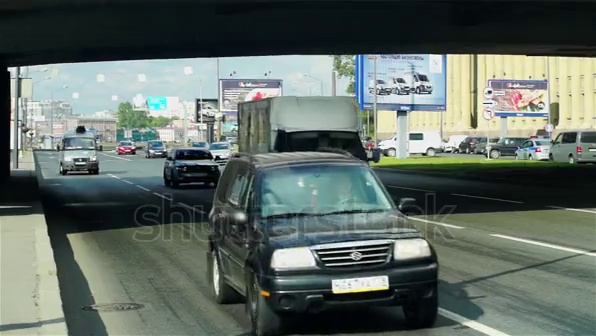licenseplate: (335, 277, 390, 291)
